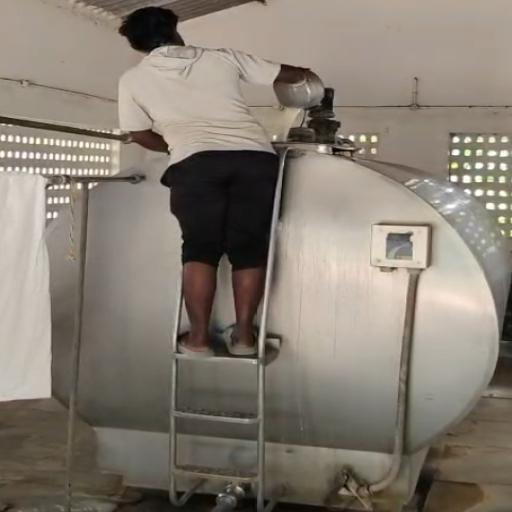silo: (49, 140, 511, 511)
vessel: (272, 71, 325, 110)
